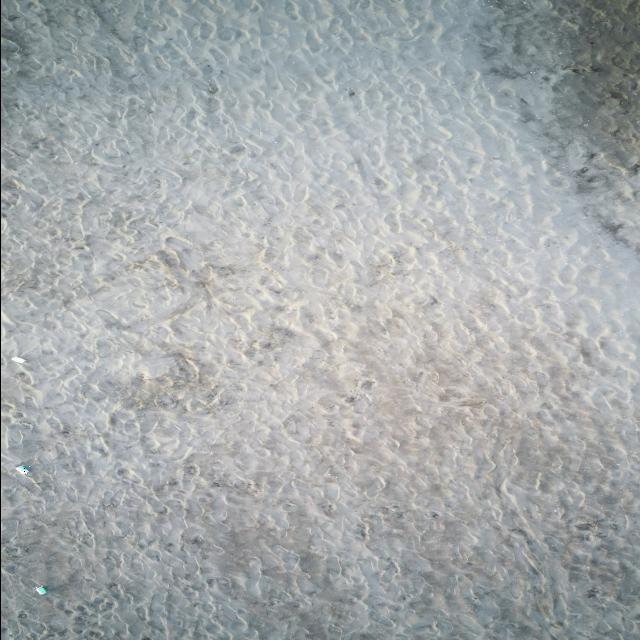Garbage: (35, 584, 47, 593), (16, 464, 27, 473), (12, 355, 24, 363)
